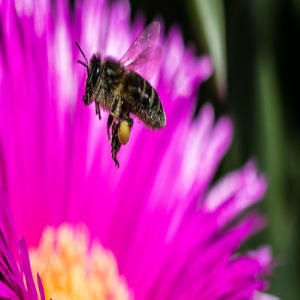bee: (74, 37, 168, 163)
